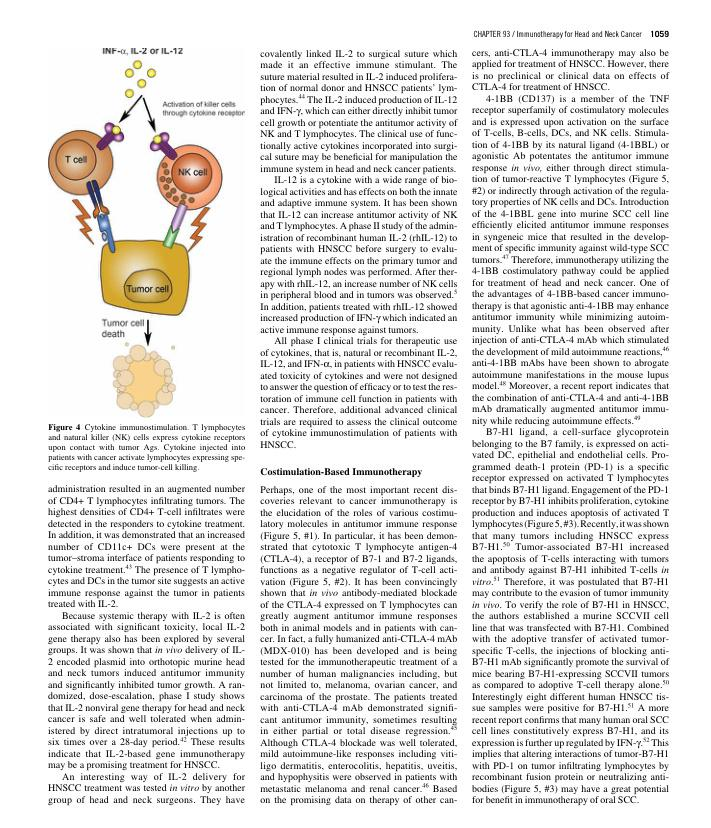caption: (47, 422, 247, 473)
header: (472, 28, 643, 39)
image: (44, 41, 250, 418)
sub-section-heading: (260, 466, 423, 478)
text: (467, 46, 671, 808), (258, 47, 459, 450), (46, 483, 246, 808), (258, 484, 458, 807)
